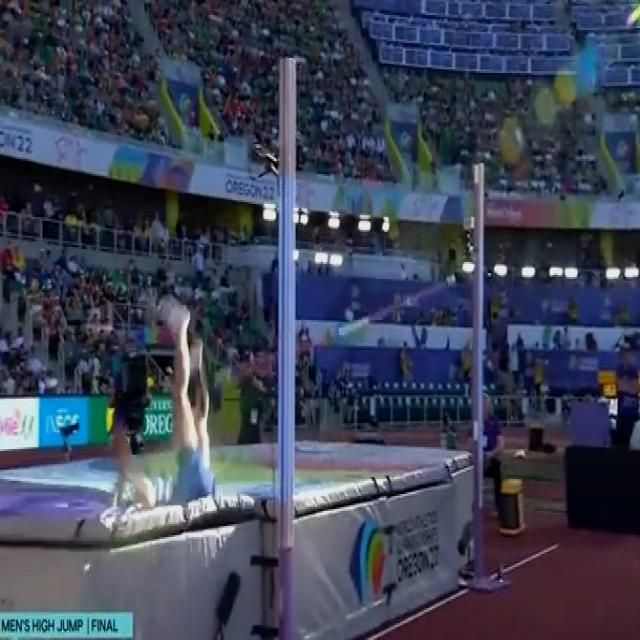land: (117, 292, 212, 505)
